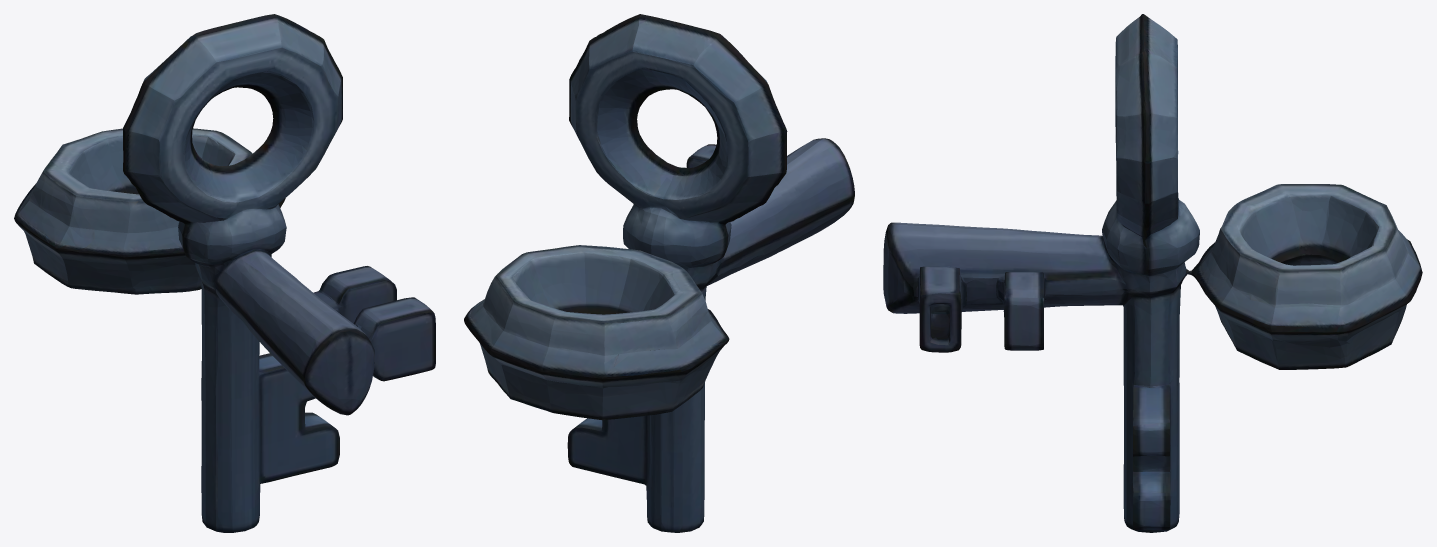
3 renders of one model, left to right at view 1: azimuth 30°, elevation 25°; view 2: azimuth 150°, elevation 25°; view 3: azimuth 270°, elevation 25°, orthographic. The views are drawn at different scales.
Parts seen in each view (by area): view 1: world.001; view 2: world.001; view 3: world.001.
Boxes of the visible parts, x1,y1,x2,y2 form: world.001: [14, 14, 435, 532]; world.001: [464, 14, 854, 532]; world.001: [883, 14, 1422, 532].
Size of the model in its own units: 0.4864 by 1 by 0.9965.
Materials: 1 (1 with a texture image).
